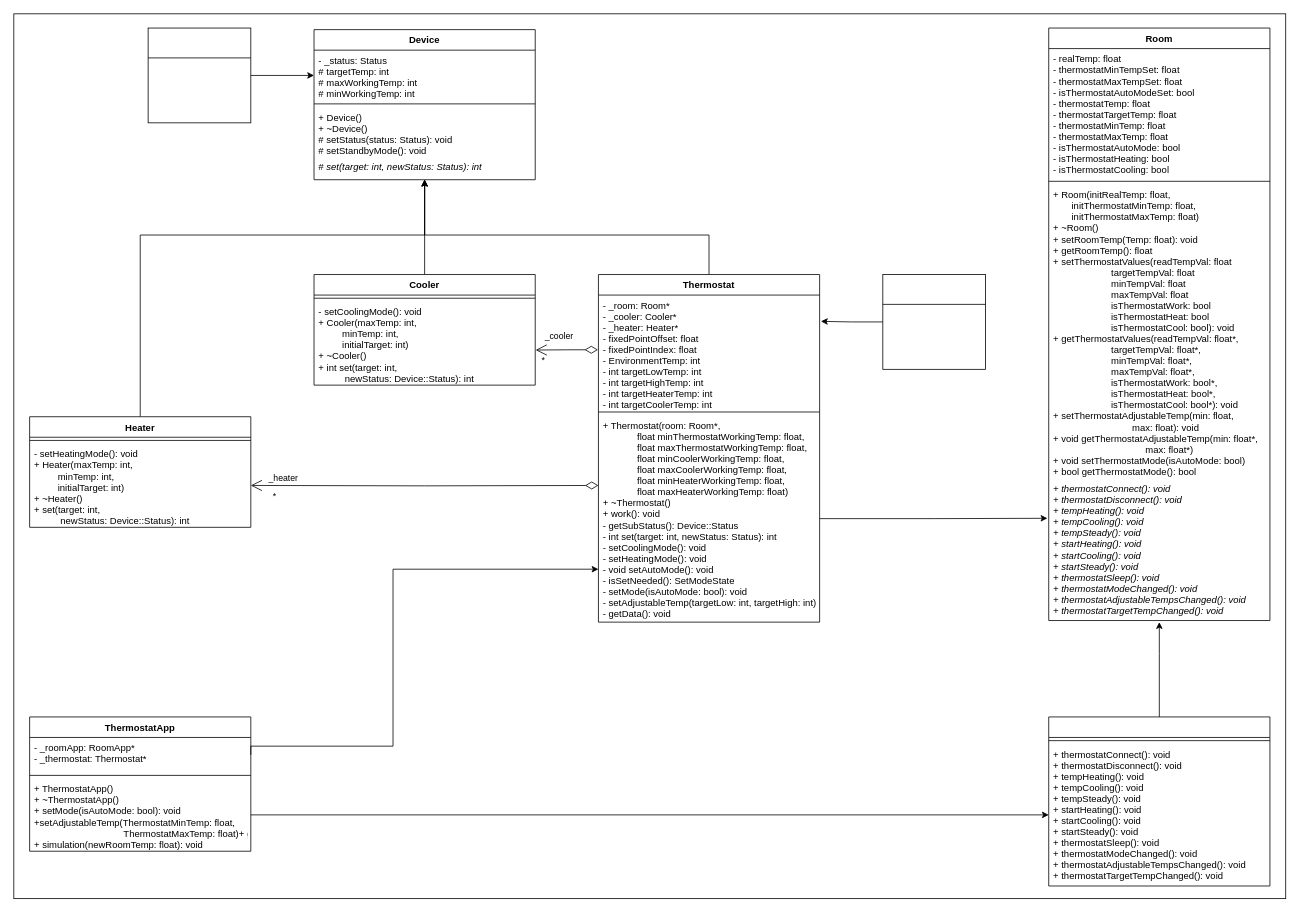
The diagram is 1300 pixels wide and 912 high, and some of its shapes have lost their labels. The box of each missing label's shape, as (x1, y1, x2, y2) in pixels:
RoomApp: (1048, 716, 1270, 886)
«enumeration» SetModeState NoSet AdjustableValuesSet ModeSet AllValuesSet Error: (882, 274, 986, 369)
«enumeration» Status Standby Heating Cooling Auto Error: (147, 27, 251, 123)
